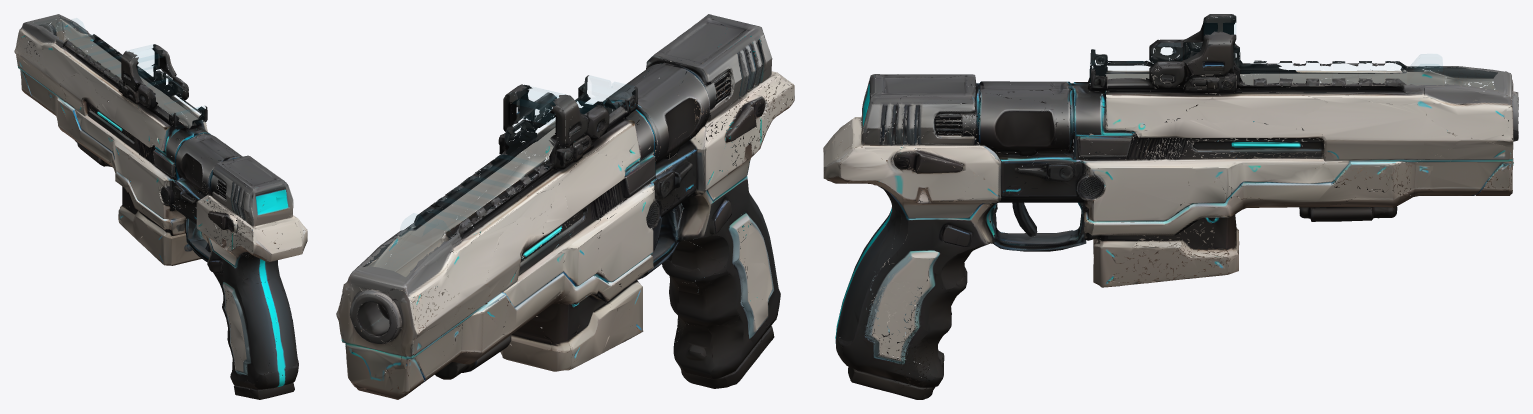
Rendered from em127p_viewmodel_reload.glb.
3 renders of one model, left to right at view 1: azimuth 30°, elevation 25°; view 2: azimuth 150°, elevation 25°; view 3: azimuth 270°, elevation 25°, orthographic. The views are drawn at different scales.
Parts seen in each view (by area): view 1: Body, DetachableMagazine; view 2: Body, DetachableMagazine; view 3: Body, DetachableMagazine.
Boxes of the visible parts, x1,y1,x2,y2 form: Body: (14,14,307,399); DetachableMagazine: (118,186,207,265); Body: (336,14,794,399); DetachableMagazine: (500,268,643,371); Body: (823,14,1518,399); DetachableMagazine: (1093,204,1238,287).
Size of the model in its own units: 0.1411 by 0.585 by 1.
2 materials, 1 textured.
